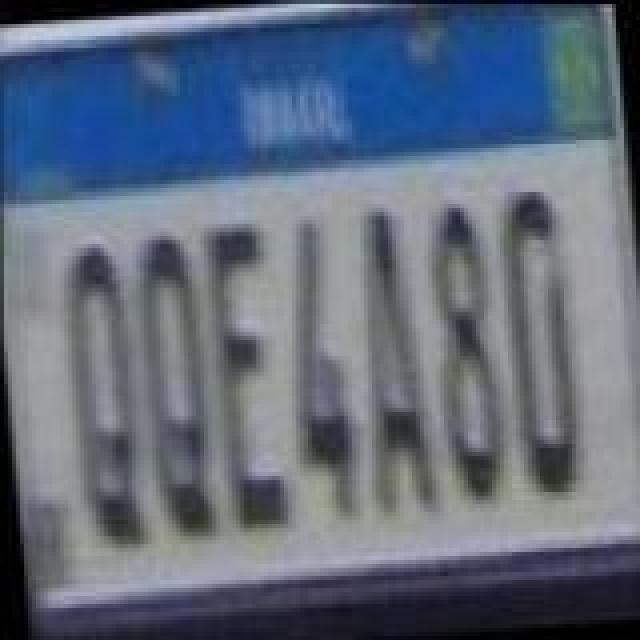4: (272, 206, 364, 518)
8: (426, 198, 506, 506)
A: (350, 200, 438, 504)
D: (494, 180, 582, 492)
E: (206, 228, 286, 532)
Q: (136, 234, 224, 542), (64, 240, 144, 552)
